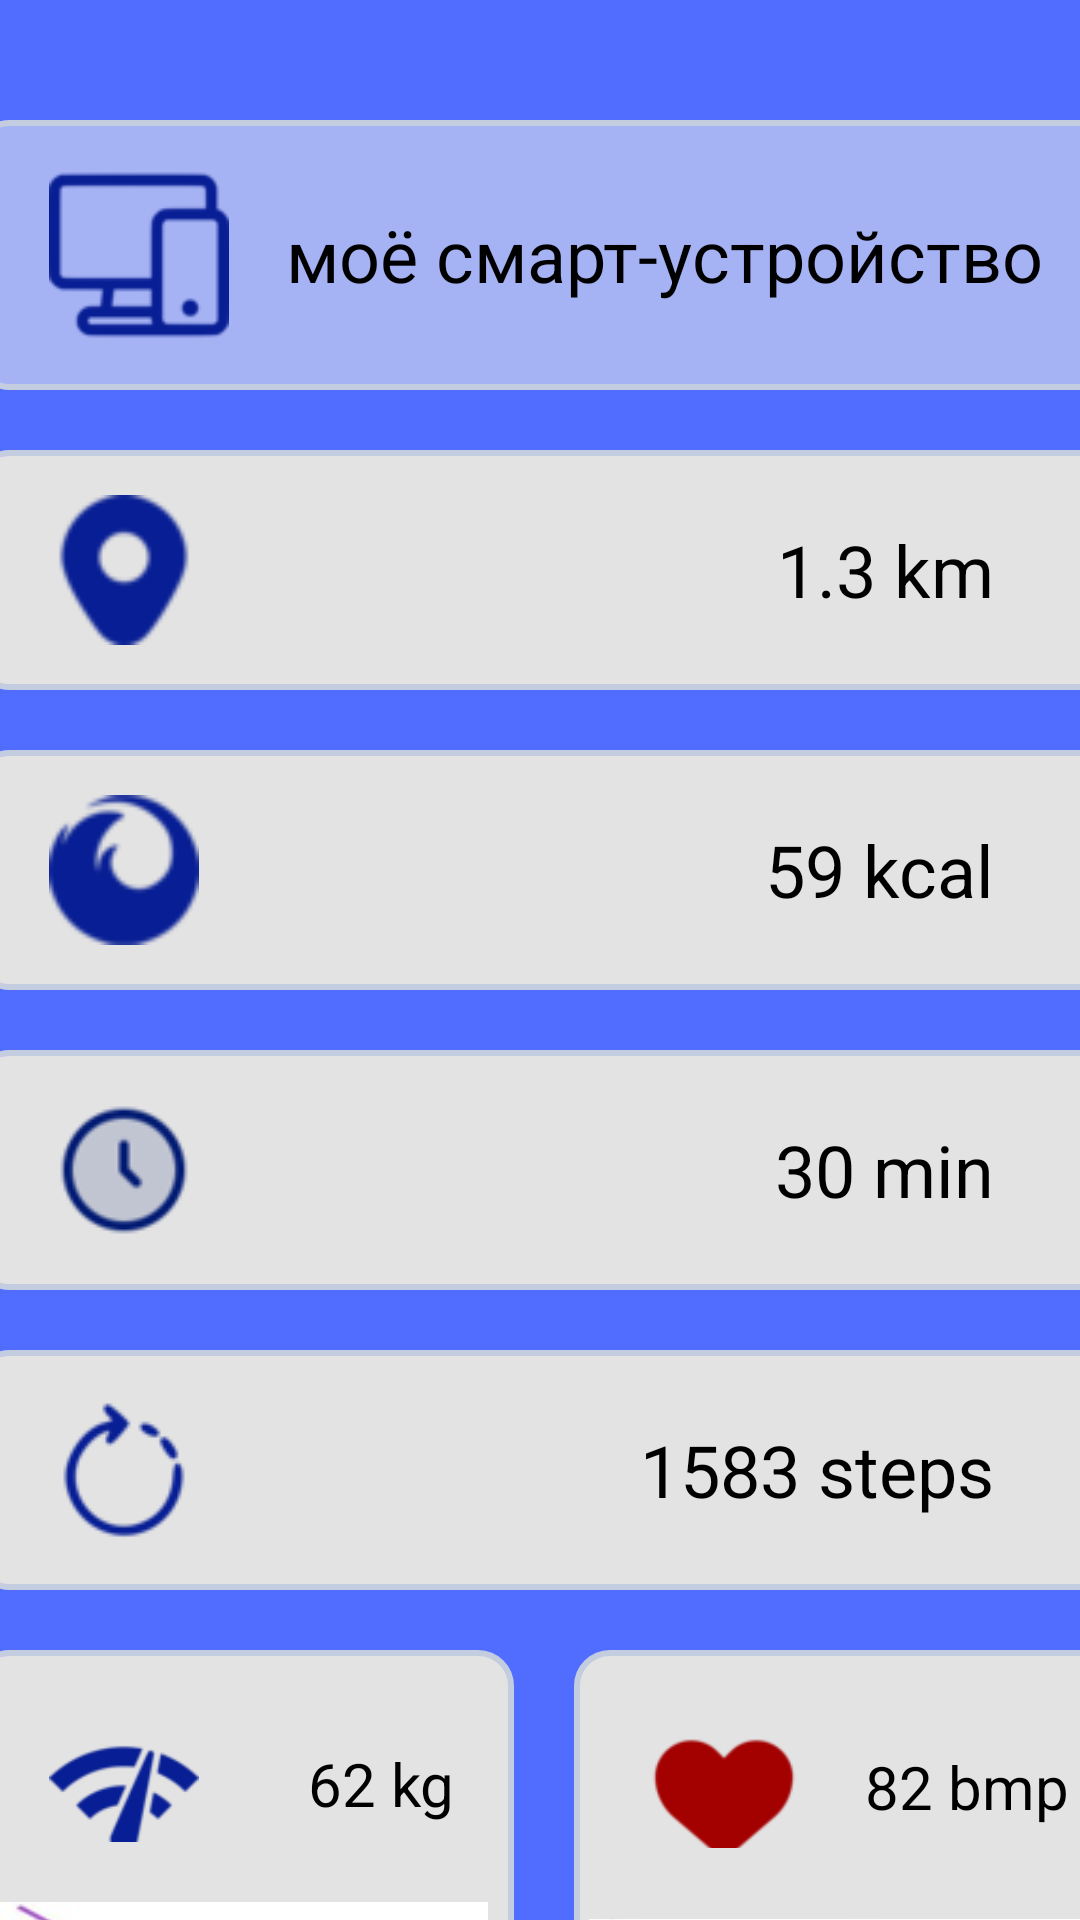

Where to tap for icons on this 1080*1920 app screen, as (x=x, y=y):
clock: (x=124, y=1170)
geo: (x=124, y=570)
